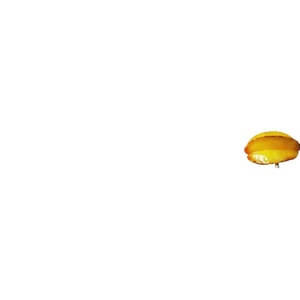carambola: (245, 131, 300, 168)
